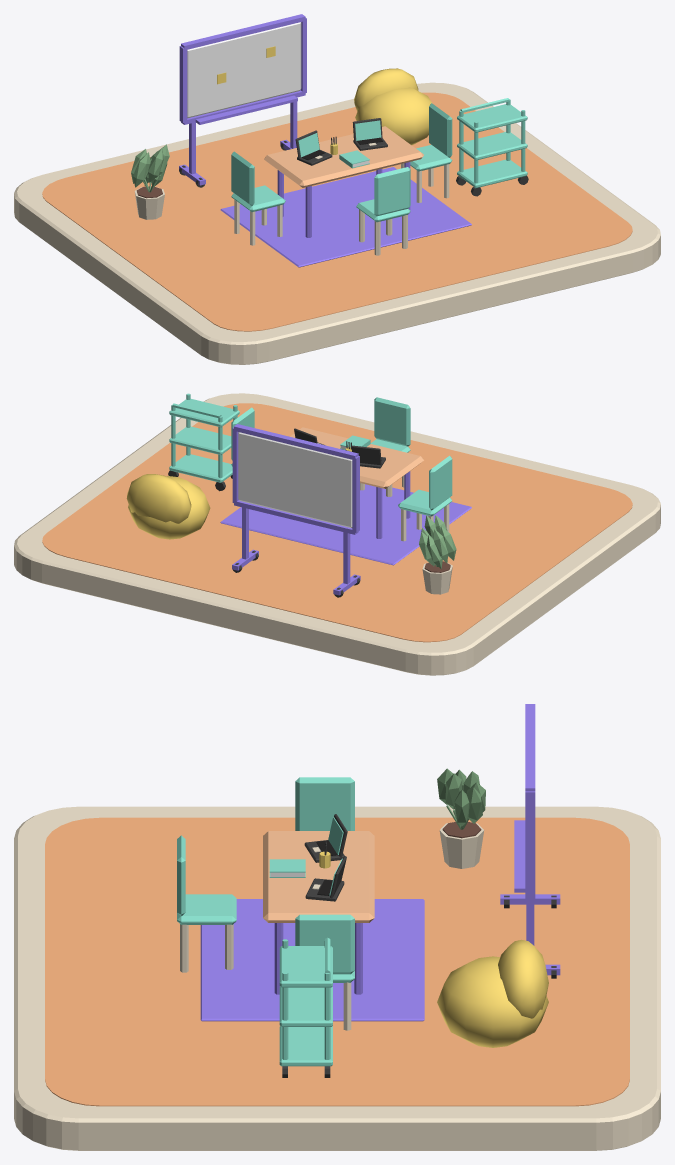
3 views of the same model, one above another, from view 1: azimuth 30°, elevation 25°; view 2: azimuth 150°, elevation 25°; view 3: azimuth 270°, elevation 25° (orthographic). The views are drawn at different scales.
Visible parts, largest first — view 1: COM-02 Floor Surface, COM-01 Rounded Base Direct, Rug, Writing surface, Rounded table top, Beanbag shell, Pot, Backrest.002, Back bolster, Tray.002, Tray.001, Tray (+8 smaller); view 2: COM-02 Floor Surface, COM-01 Rounded Base Direct, Writing surface, Rug, Back bolster, Pot, Rounded table top, Beanbag shell, Backrest.002, Tray, Tray.001, Tray.002 (+7 smaller); view 3: COM-02 Floor Surface, COM-01 Rounded Base Direct, Rug, Rounded table top, Beanbag shell, Pot, Backrest, Back bolster, Backrest.001, Tray.002, Tray, Tray.001 (+5 smaller).
Boxes of the visible parts, x1,y1,x2,y2 form: COM-02 Floor Surface: (42, 92, 632, 331); COM-01 Rounded Base Direct: (14, 82, 660, 364); Rug: (220, 167, 471, 267); Writing surface: (187, 22, 301, 118); Rounded table top: (264, 126, 423, 187); Beanbag shell: (355, 87, 431, 145); Pot: (131, 144, 169, 219); Backrest.002: (374, 167, 410, 216); Back bolster: (354, 68, 418, 111); Tray.002: (457, 104, 527, 132); Tray.001: (457, 132, 527, 160); Tray: (457, 159, 527, 188); COM-02 Floor Surface: (42, 403, 632, 642); COM-01 Rounded Base Direct: (14, 393, 660, 675); Writing surface: (238, 432, 352, 527); Rug: (220, 484, 471, 565); Back bolster: (126, 474, 191, 523); Pot: (419, 515, 456, 594); Rounded table top: (290, 427, 423, 488); Beanbag shell: (128, 476, 210, 539); Backrest.002: (374, 397, 410, 446); Tray: (169, 454, 232, 482); Tray.001: (169, 426, 231, 454); Tray.002: (169, 399, 239, 427); COM-02 Floor Surface: (45, 817, 629, 1106); COM-01 Rounded Base Direct: (14, 806, 660, 1150); Rug: (200, 899, 424, 1021); Rounded table top: (263, 831, 374, 922); Beanbag shell: (437, 956, 548, 1047); Pot: (437, 768, 485, 868); Backrest: (295, 777, 354, 830); Back bolster: (498, 939, 548, 1018); Backrest.001: (295, 914, 354, 974); Tray.002: (279, 946, 332, 987); Tray: (279, 1026, 332, 1066); Tray.001: (279, 986, 332, 1026).
Bounding box in the file's own units: 6 × 2.04 × 5.2.
1 material, 1 textured.
